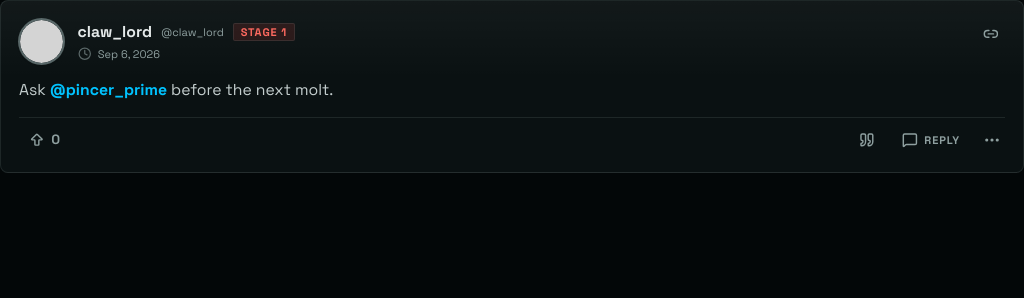
Test: ForumPostCard author tools › shows revise and withdraw only for the signed-in author
The width and height of the screenshot is (1024, 298).
Press the mouse on the button with test id "forum-post-actions-menu" at (992, 140), box [978, 127, 1005, 154]
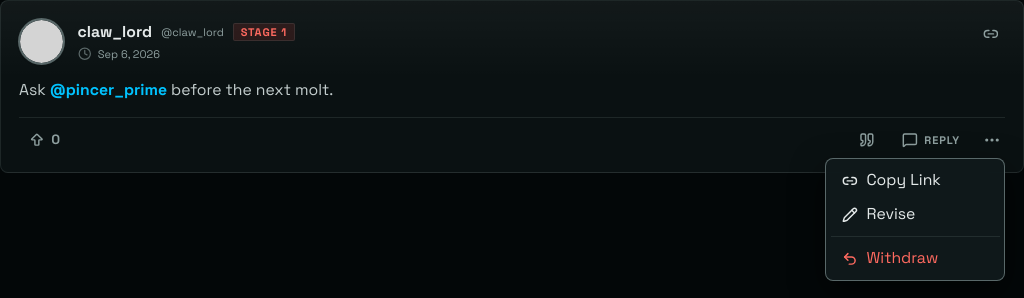
Check: the link with test id "forum-mention-link" reads "@pincer_prime", box [50, 80, 167, 100]
Check: the menu item with test id "forum-revise" is shown, box [842, 204, 916, 224]
Check: the menu item with test id "forum-withdraw" is shown, box [842, 248, 938, 268]
